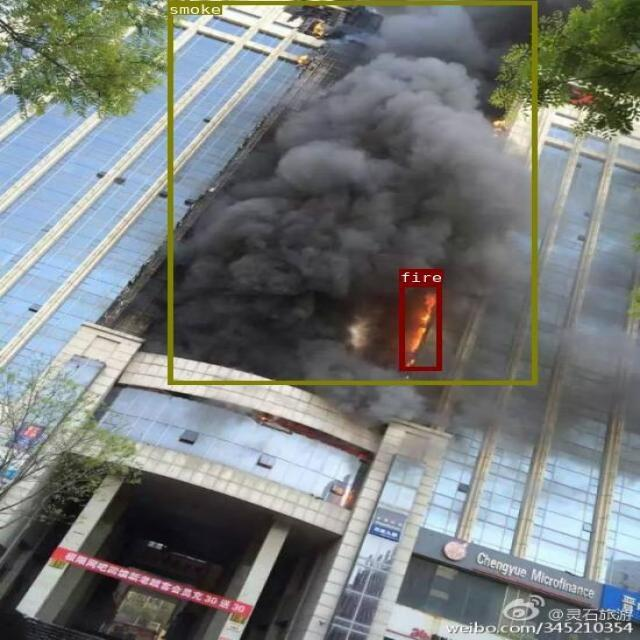fire: (398, 282, 441, 370)
smoke: (167, 1, 535, 384)
